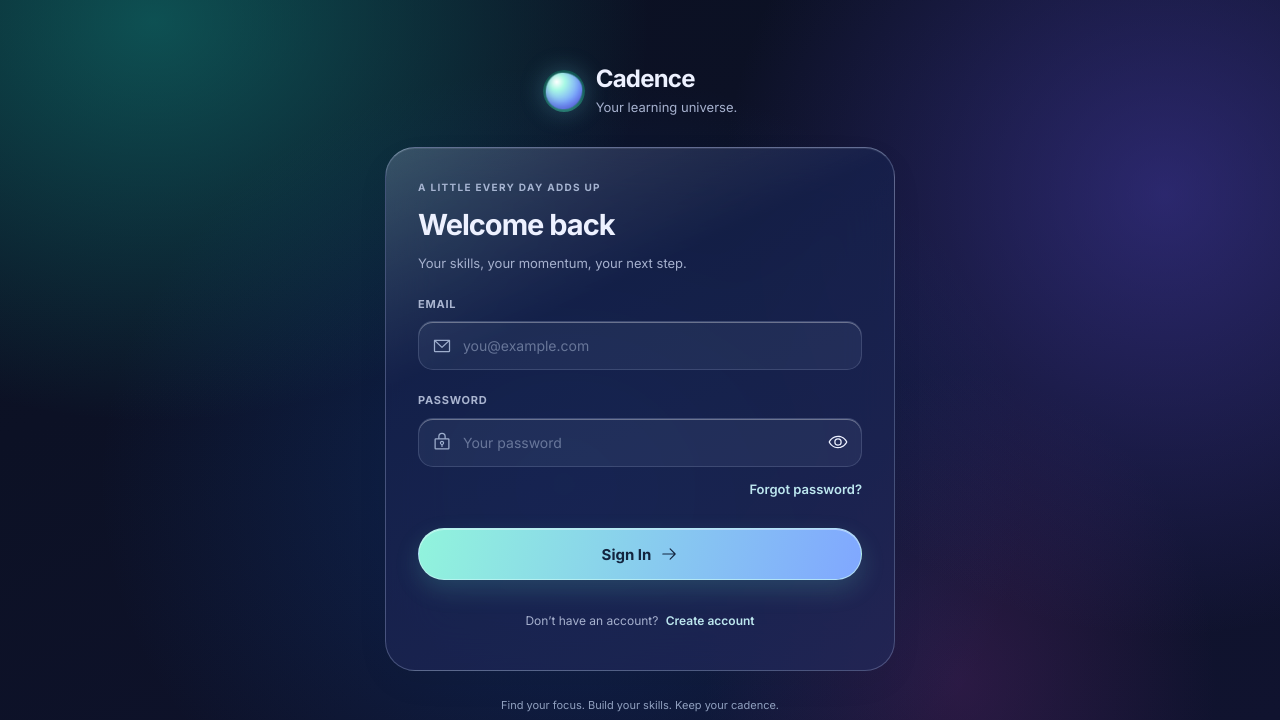
it: Supabase authentication flows › requests password-reset links with an app recovery redirect
Expected: the button "Sign In" is shown, x1=418 y1=528 x2=862 y2=580
Click the button "Forgot password?" at (806, 490), box x1=749 y1=473 x2=862 y2=506
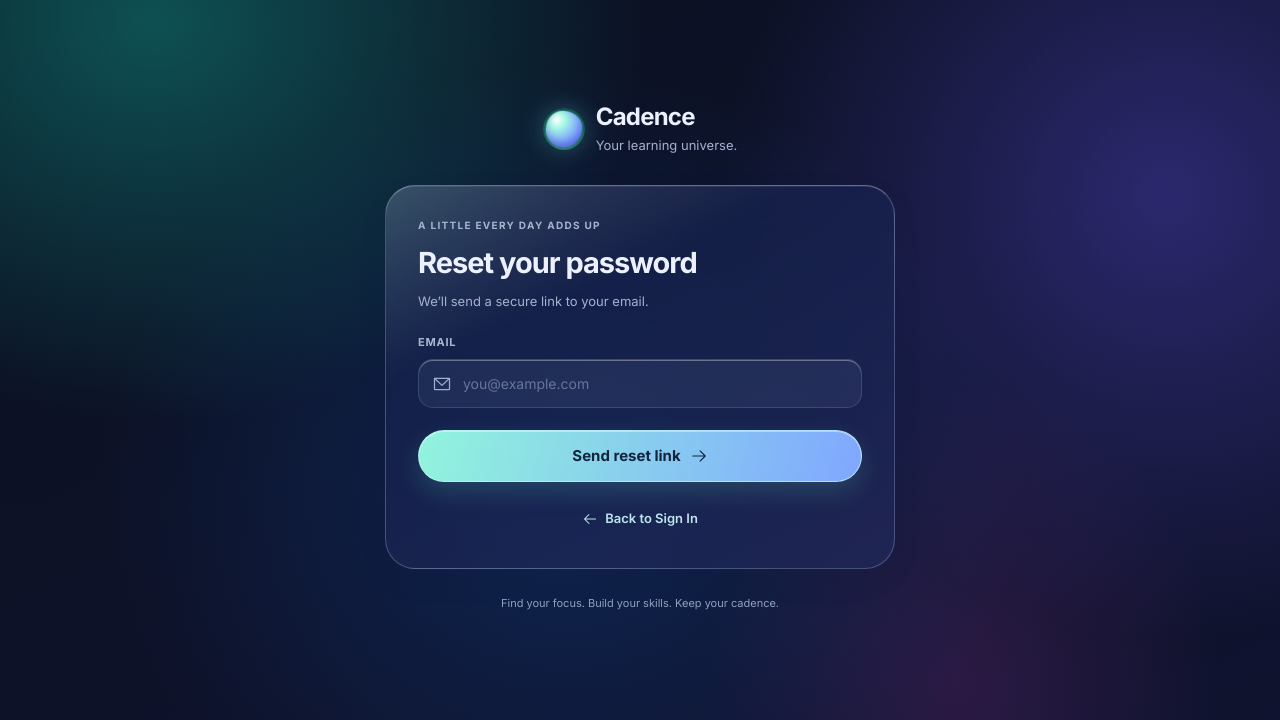
Type "user@example.test" into the field labelled "EMAIL" at (640, 384), box x1=418 y1=359 x2=862 y2=408
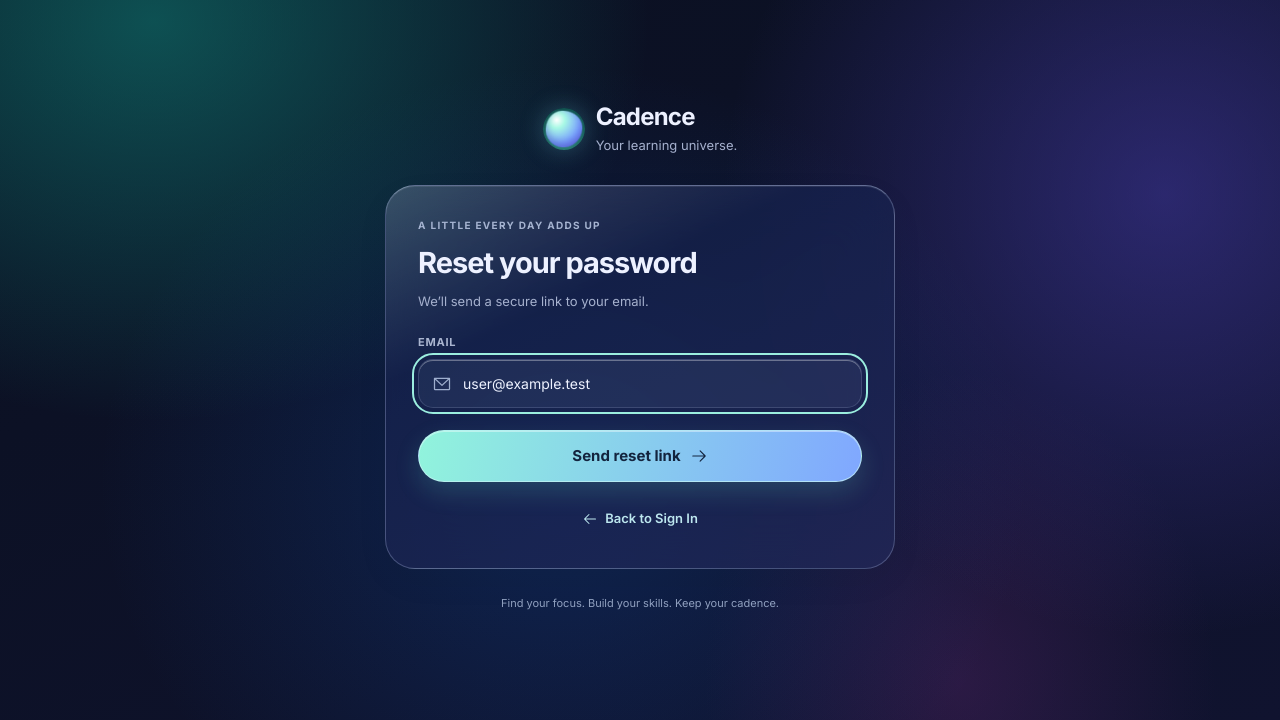
Click the button "Send reset link" at (640, 456), box x1=418 y1=430 x2=862 y2=482
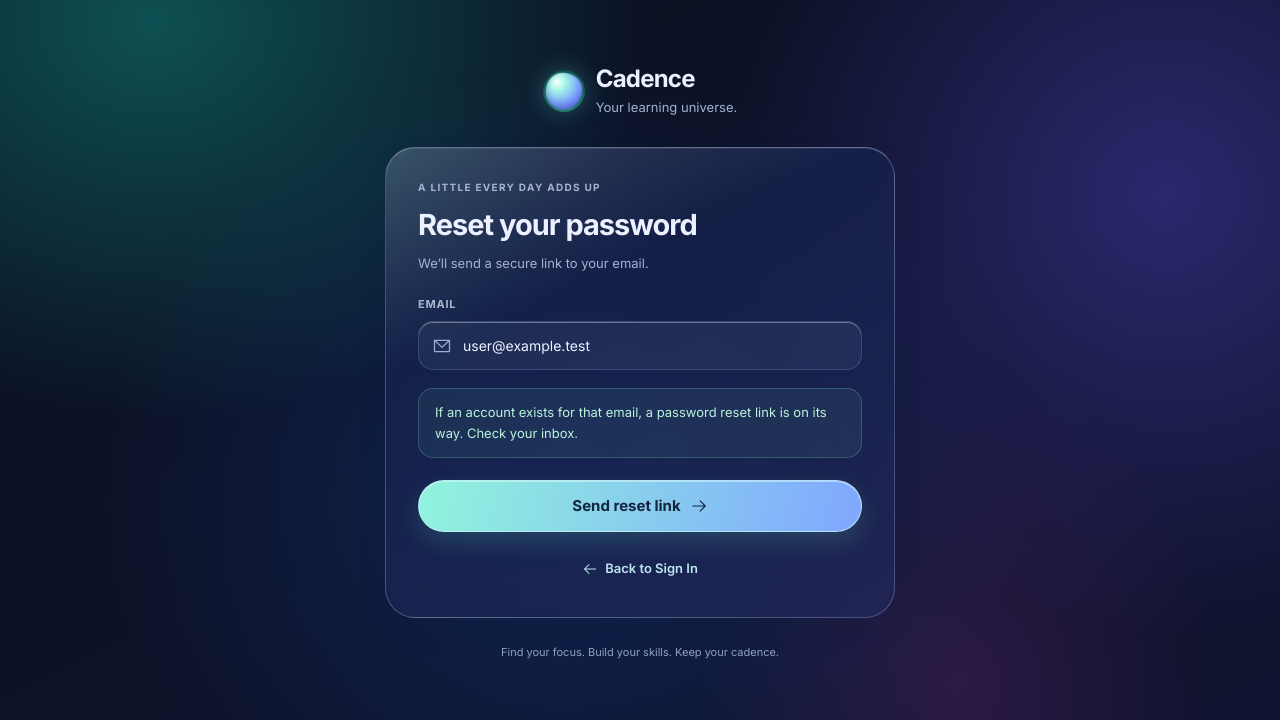
Expected: the message shows "If an account exists", x1=435 y1=404 x2=827 y2=441
